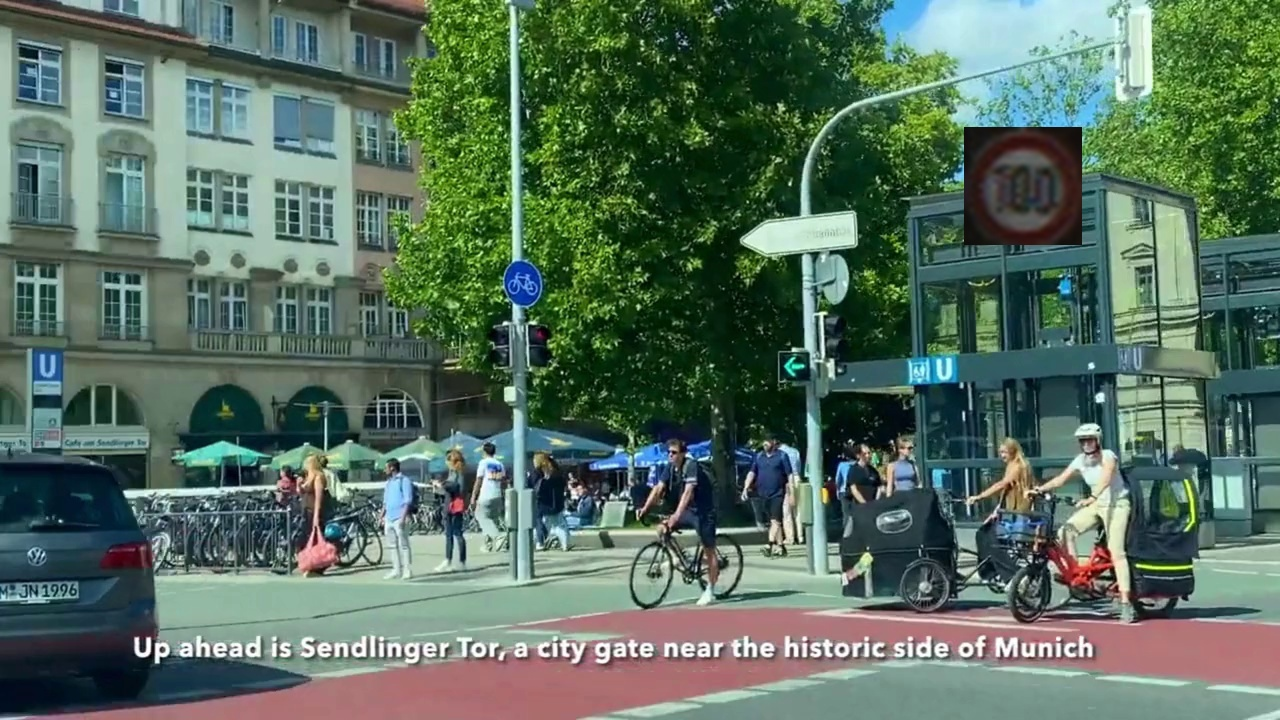Speed 100: (964, 127, 1082, 245)
